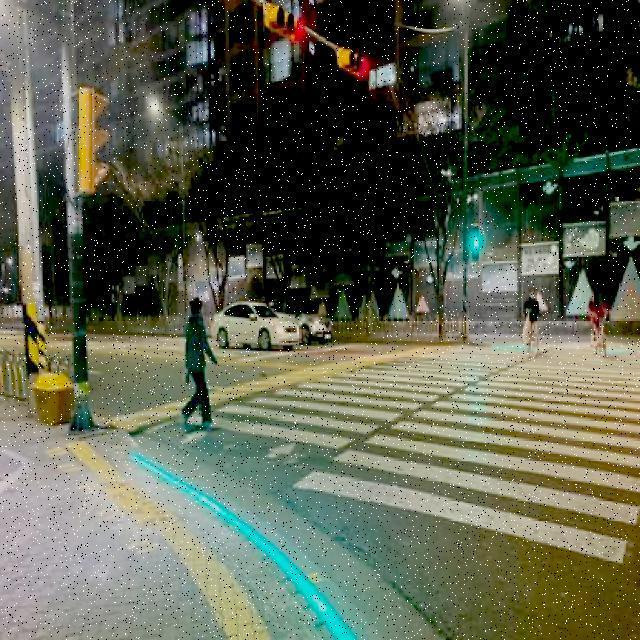Pedestrian crosswalk: (171, 328, 640, 562)
